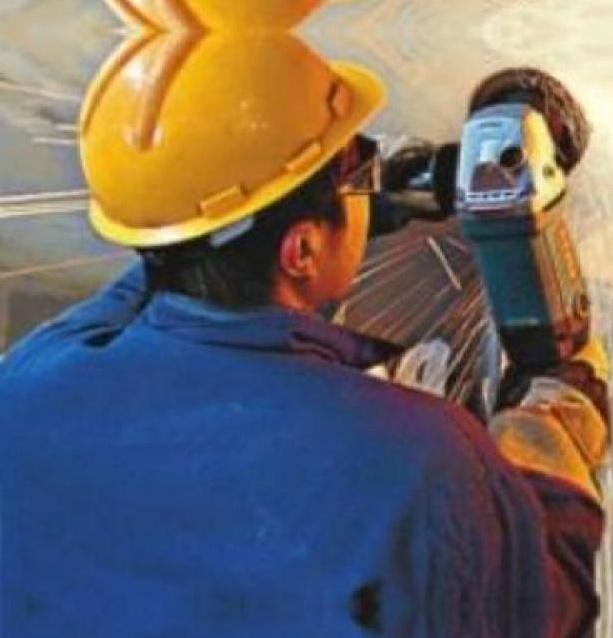hard-hat: (77, 0, 388, 249)
